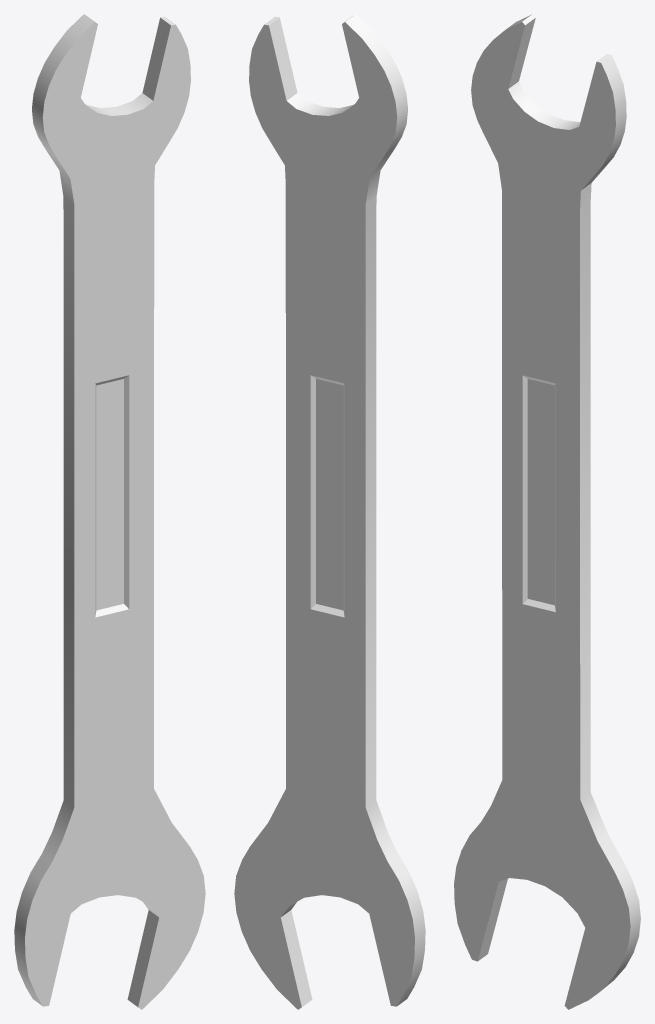
Rendered from Tool_Spanner.fbx.
3 renders of one model, left to right at view 1: azimuth 30°, elevation 25°; view 2: azimuth 150°, elevation 25°; view 3: azimuth 330°, elevation 25°, orthographic. The views are drawn at different scales.
Visible parts, largest first — view 1: Tool_Spanner; view 2: Tool_Spanner; view 3: Tool_Spanner.
Boxes of the visible parts, x1,y1,x2,y2 form: Tool_Spanner: (14, 14, 205, 1009); Tool_Spanner: (234, 14, 425, 1009); Tool_Spanner: (454, 14, 640, 1009).
Size of the model in its own units: 0.0474 by 0.2505 by 0.00496.
